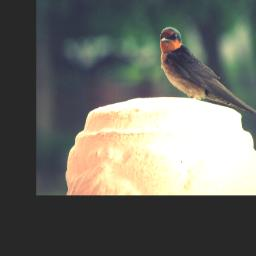Swallow: (158, 24, 256, 119)
